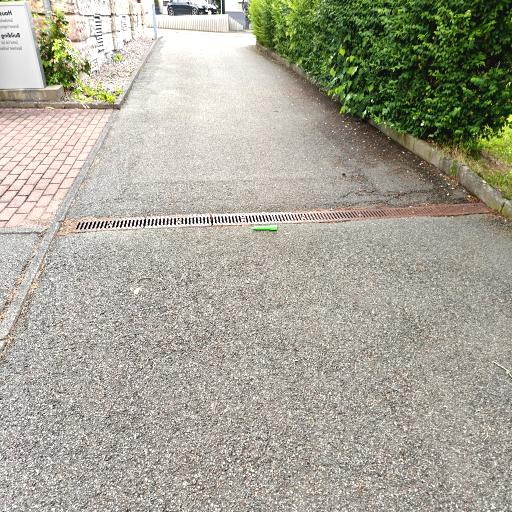Probe-Detection: (252, 225, 277, 230)
